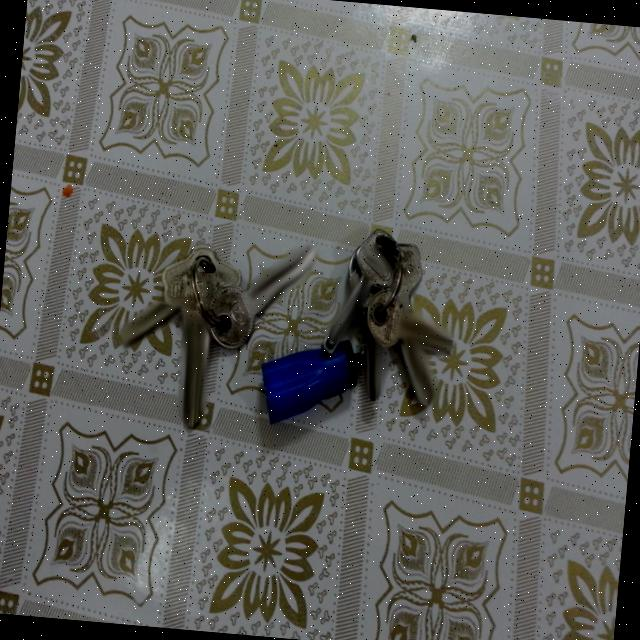Frontdoor keys: (151, 242, 233, 433), (205, 231, 316, 352), (320, 223, 398, 360)
